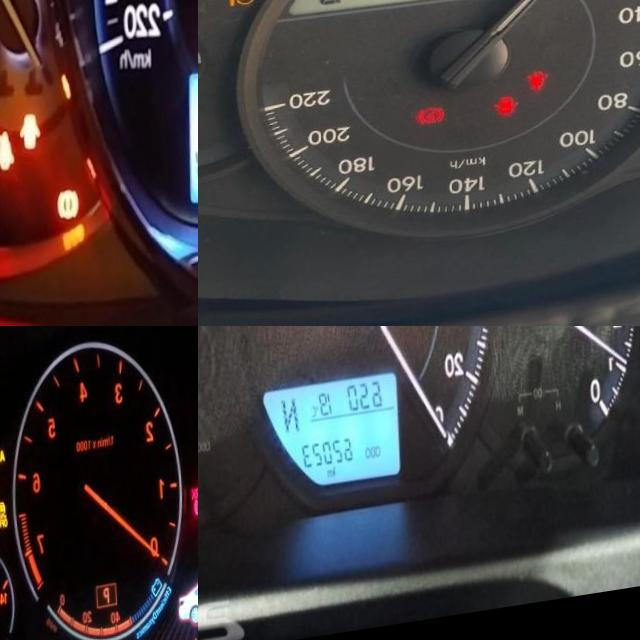Electronic Power Steering: (224, 0, 257, 15)
Seat Belt: (525, 80, 546, 107), (0, 134, 12, 176)
